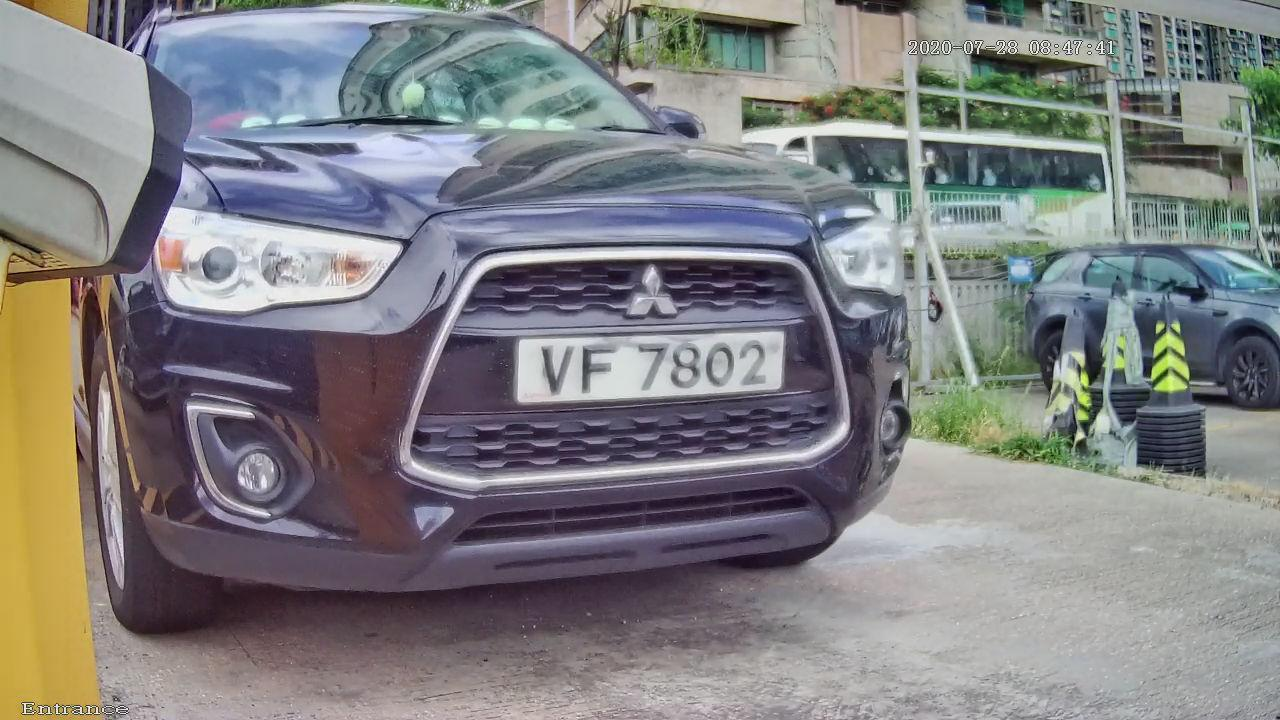privatecar: (23, 13, 1098, 634)
